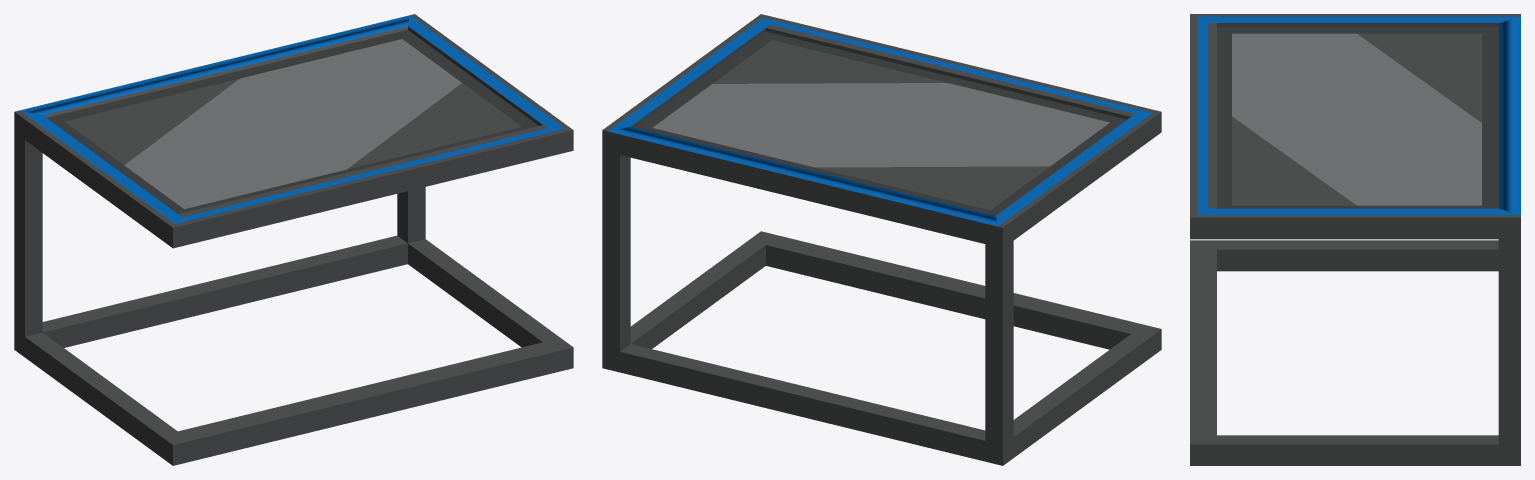
Rendered from Desk_012.fbx.
3 renders of one model, left to right at view 1: azimuth 30°, elevation 25°; view 2: azimuth 150°, elevation 25°; view 3: azimuth 270°, elevation 25°, orthographic. The views are drawn at different scales.
Visible parts, largest first — view 1: Desk_012; view 2: Desk_012; view 3: Desk_012.
Boxes of the visible parts, box(x1,y1,x2,y2) form: Desk_012: box(14, 14, 573, 465); Desk_012: box(602, 14, 1161, 465); Desk_012: box(1190, 14, 1520, 465).
Size of the model in its own units: 148 by 102 by 84.21.
